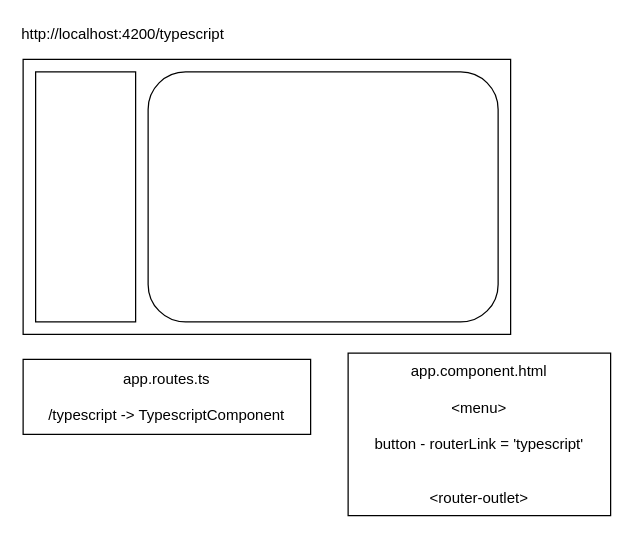
Some shapes in this 633 by 538 pixel diagram are drawn without their labels. The box of each missing label's shape, as (x1, y1, x2, y2) in pixels:
Typescript: (34, 71, 136, 322)
TypeScriptComponent: (147, 71, 498, 322)
